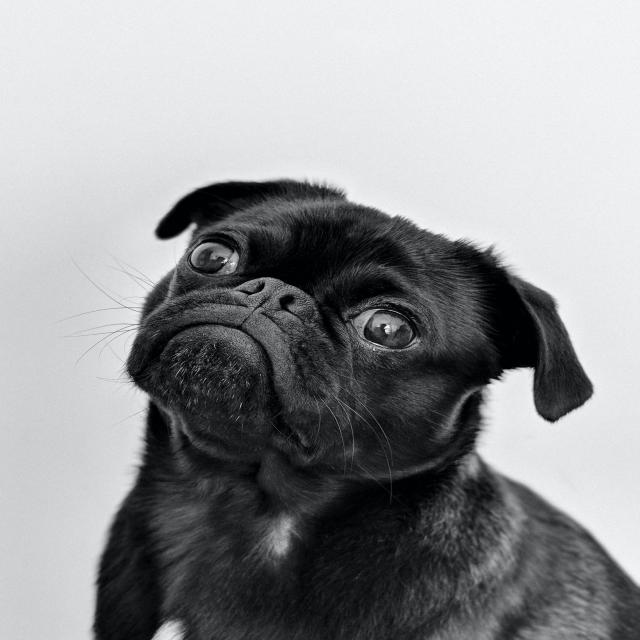animal: (91, 170, 638, 640)
